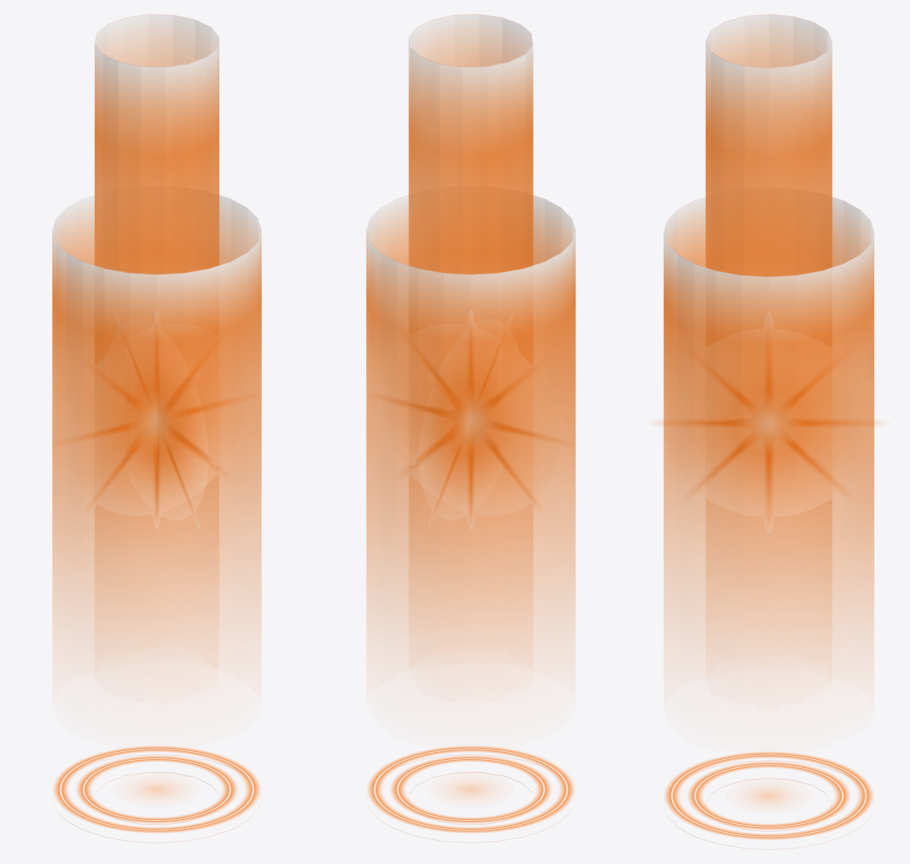
The model's file is fx_up_nova.glb.
3 views of the same model, side by side, from view 1: azimuth 30°, elevation 25°; view 2: azimuth 150°, elevation 25°; view 3: azimuth 270°, elevation 25° (orthographic).
Visible parts, largest first — view 1: fx_up_pillar, fx_up_star, fx_up_ring; view 2: fx_up_pillar, fx_up_star, fx_up_ring; view 3: fx_up_pillar, fx_up_star, fx_up_ring.
Part boxes in pixels (bbox=[...]): fx_up_pillar: bbox=[52, 14, 261, 842]; fx_up_star: bbox=[64, 347, 239, 517]; fx_up_ring: bbox=[54, 746, 259, 832]; fx_up_pillar: bbox=[366, 14, 575, 842]; fx_up_star: bbox=[387, 342, 563, 516]; fx_up_ring: bbox=[368, 746, 573, 832]; fx_up_pillar: bbox=[663, 14, 874, 849]; fx_up_star: bbox=[661, 352, 876, 510]; fx_up_ring: bbox=[665, 752, 872, 839].
Size of the model in its own units: 1.2 by 4 by 1.2.
3 materials, 3 textured.
